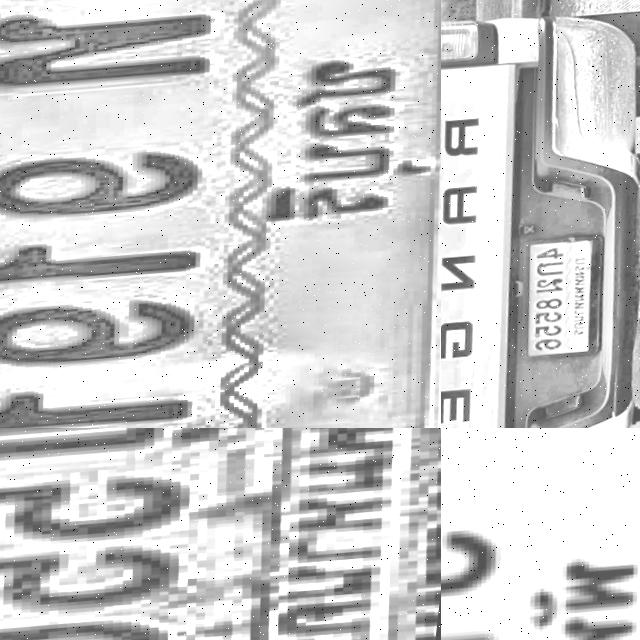license-plate: (0, 0, 441, 428), (0, 428, 441, 640), (441, 428, 640, 640), (519, 232, 618, 360)
